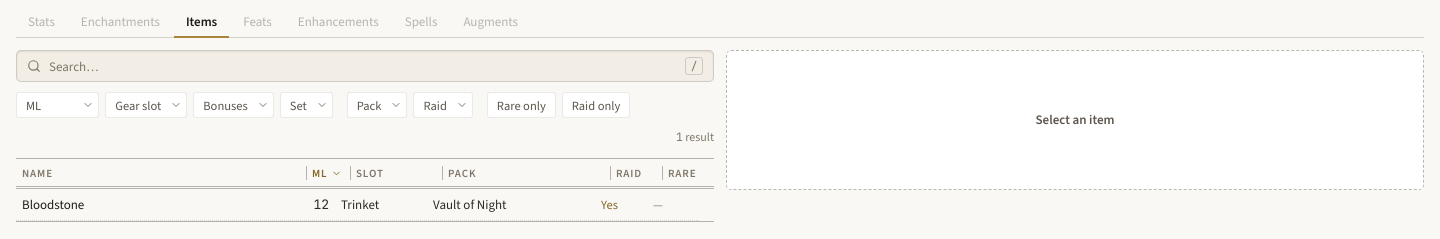
Test: ResourcesView keyboard shortcuts › does not hijack "/" typed into a text field
This screenshot has width=1440, height=239.
Click the search field named "search items": [363, 66] box 49,51 -> 677,81
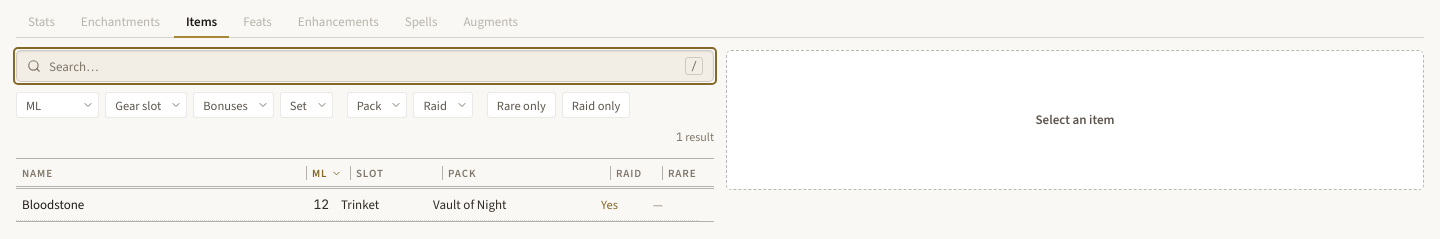
Type keys "a/b"
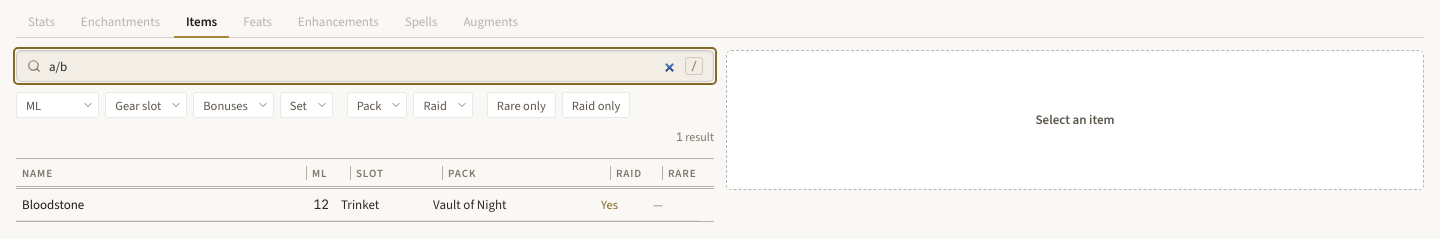
Now the search field named "search items" holds "a/b", box 49,51 -> 677,81
